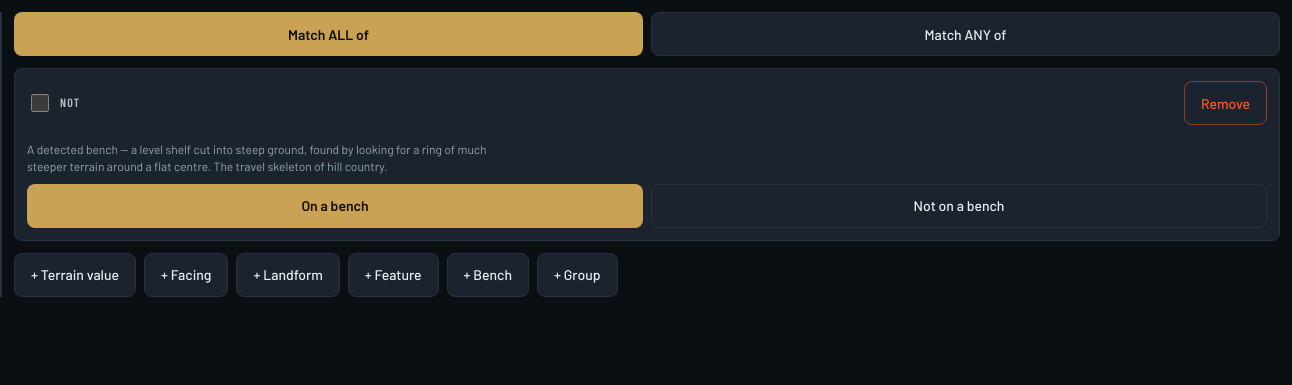
Test: GroupNode — negation, BACKLOG R56 › shows the R56 warning, in the same screen, the moment "Not" is checked
Click the checkbox labelled "Not".
click(40, 103)  # box [31,94,49,112]
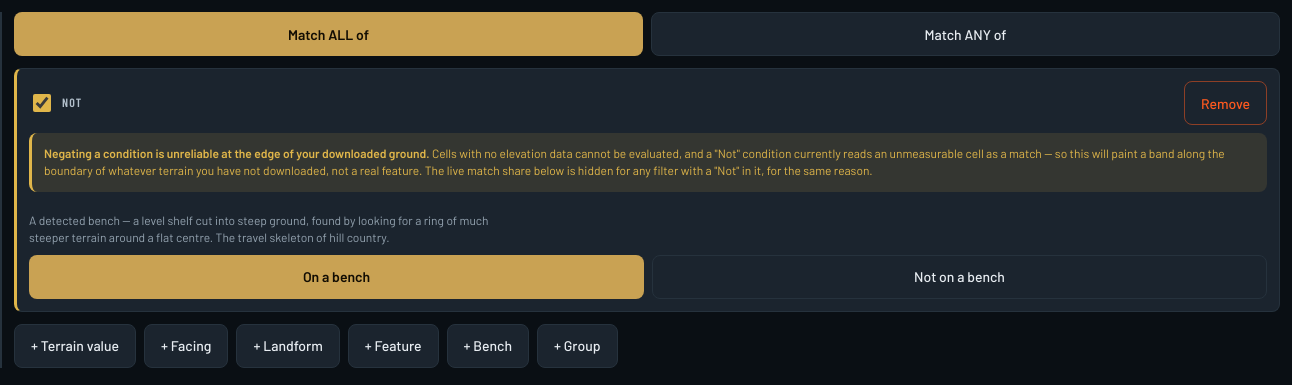
Check: the text "Negating a condition is unreliable at the edge" is shown, box [44,146,430,160]
Check: the message with class "rl-callout--warn" shows "unmeasurable cell as a match", box [44,146,1225,177]
